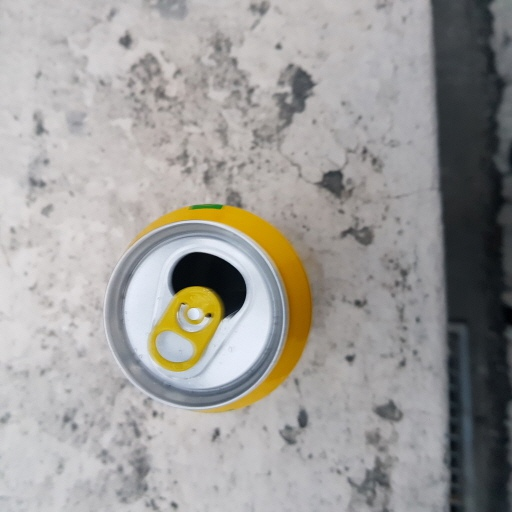Metal_0: (103, 200, 315, 417)
